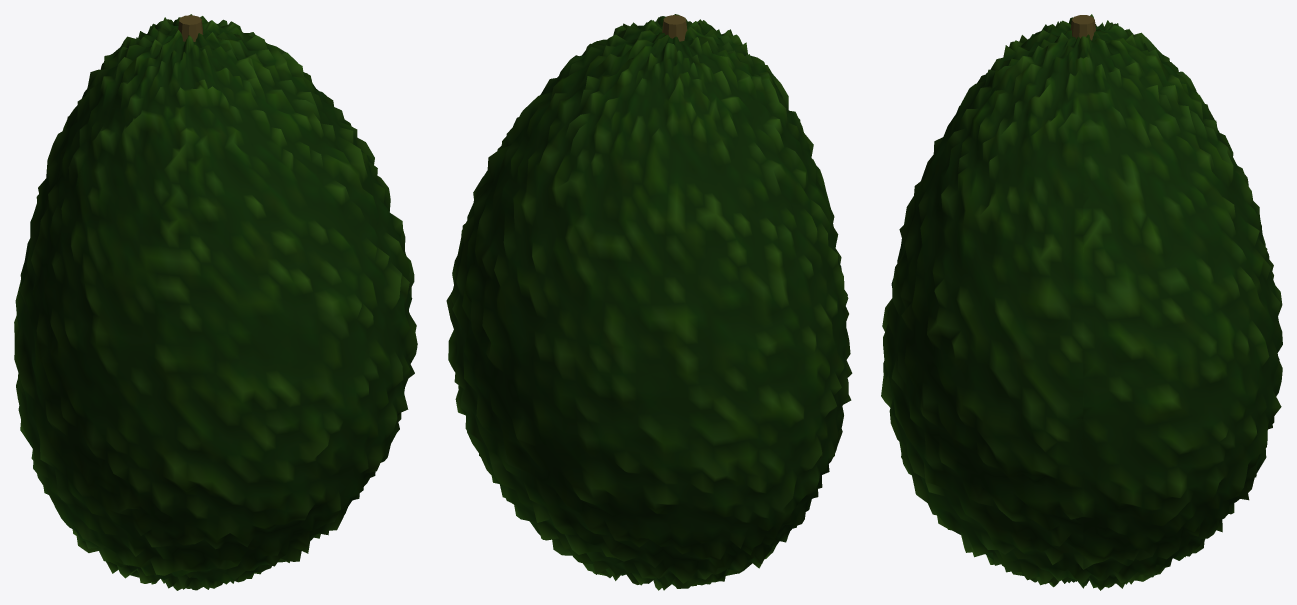
Rendered from corossol.glb.
3 renders of one model, left to right at view 1: azimuth 30°, elevation 25°; view 2: azimuth 150°, elevation 25°; view 3: azimuth 270°, elevation 25°, orthographic.
Parts seen in each view (by area): view 1: entier_peau, moitie_B_peau, moitie_A_peau; view 2: entier_peau, moitie_A_peau, moitie_B_peau, entier_extra0; view 3: entier_peau, moitie_B_peau, moitie_A_peau, entier_extra0.
Boxes of the visible parts, bbox=[...] form: entier_peau: bbox=[14, 14, 417, 590]; moitie_B_peau: bbox=[43, 22, 416, 589]; moitie_A_peau: bbox=[14, 14, 253, 540]; entier_peau: bbox=[446, 14, 852, 590]; moitie_A_peau: bbox=[448, 27, 822, 587]; moitie_B_peau: bbox=[584, 21, 850, 566]; entier_extra0: bbox=[662, 15, 687, 41]; entier_peau: bbox=[881, 14, 1282, 590]; moitie_B_peau: bbox=[882, 23, 1083, 585]; moitie_A_peau: bbox=[1083, 17, 1281, 589]; entier_extra0: bbox=[1070, 15, 1095, 40].
Bounding box in the file's own units: 1.39 × 2.11 × 1.39.
